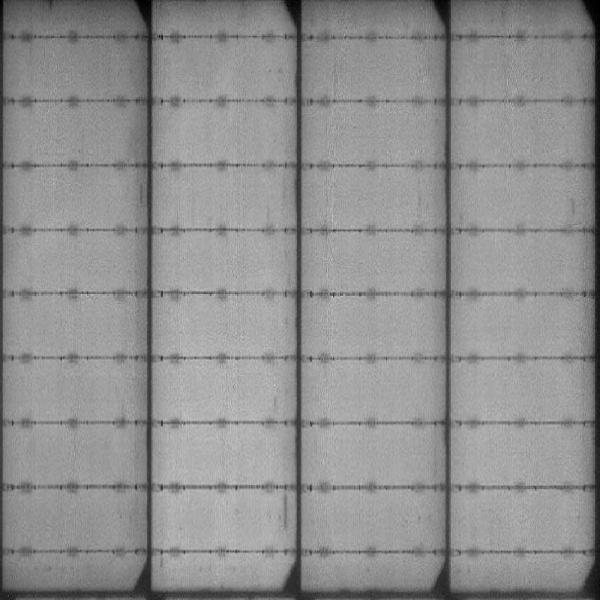scratch: (280, 486, 290, 533)
